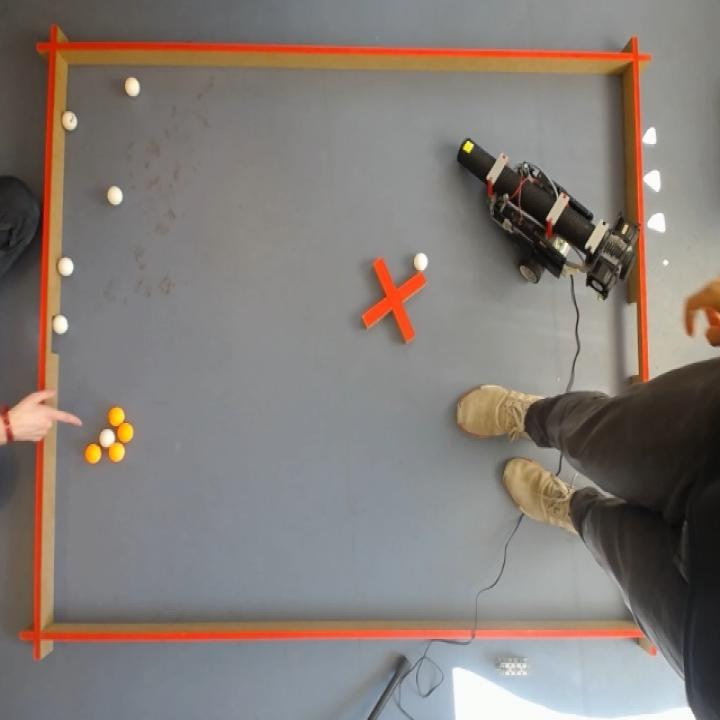orange: (105, 438, 127, 466), (115, 417, 136, 444), (82, 441, 102, 467), (108, 404, 126, 430)
robot: (457, 138, 640, 302)
robot-front: (458, 139, 491, 180)
white: (103, 183, 125, 210), (122, 74, 141, 103), (98, 426, 117, 453), (56, 256, 77, 280), (61, 109, 80, 135), (52, 313, 70, 335), (415, 253, 428, 271)
